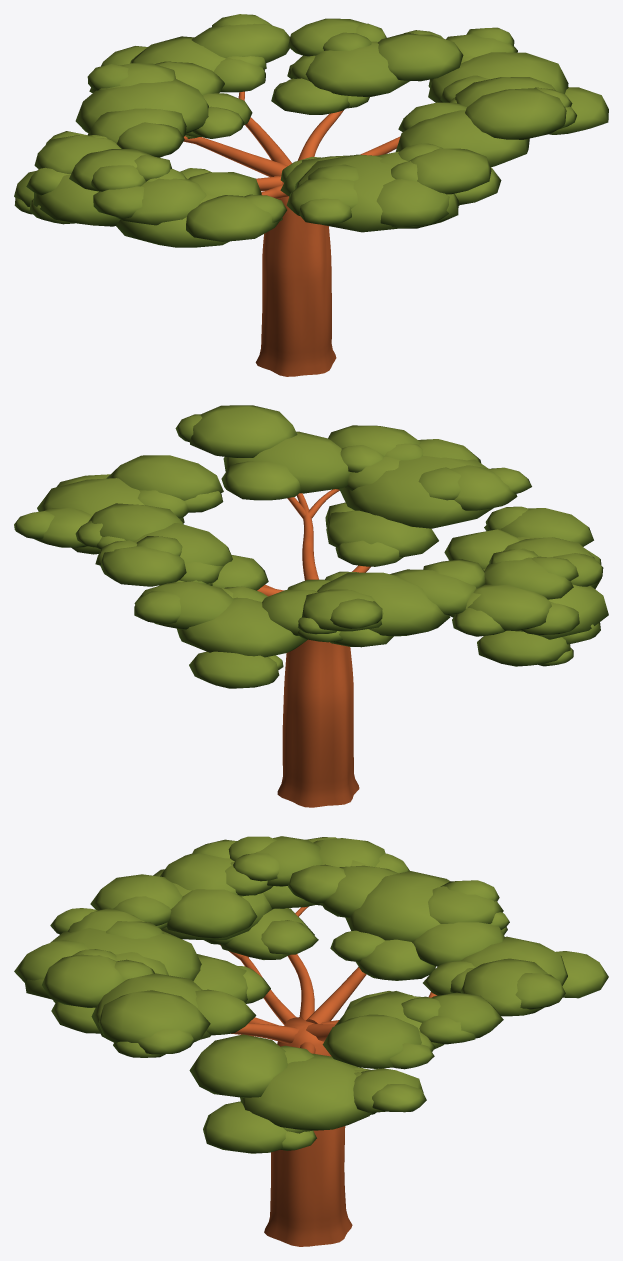
The model's file is baobab_giant.glb.
The picture shows the model from 3 angles, top to bottom: view 1: azimuth 30°, elevation 25°; view 2: azimuth 150°, elevation 25°; view 3: azimuth 270°, elevation 25°; orthographic projection. The views are drawn at different scales.
Parts seen in each view (by area): view 1: baobab_giant_leaves, baobab_giant_bark; view 2: baobab_giant_leaves, baobab_giant_bark; view 3: baobab_giant_leaves, baobab_giant_bark.
Boxes of the visible parts, left/top/right/bottom form: baobab_giant_leaves: left=14, top=14, right=608, bottom=247; baobab_giant_bark: left=183, top=91, right=400, bottom=376; baobab_giant_leaves: left=14, top=405, right=608, bottom=688; baobab_giant_bark: left=257, top=489, right=370, bottom=807; baobab_giant_leaves: left=14, top=836, right=608, bottom=1153; baobab_giant_bark: left=220, top=906, right=437, bottom=1246.
Bounding box in the file's own units: 48.69 × 23.69 × 42.14.
